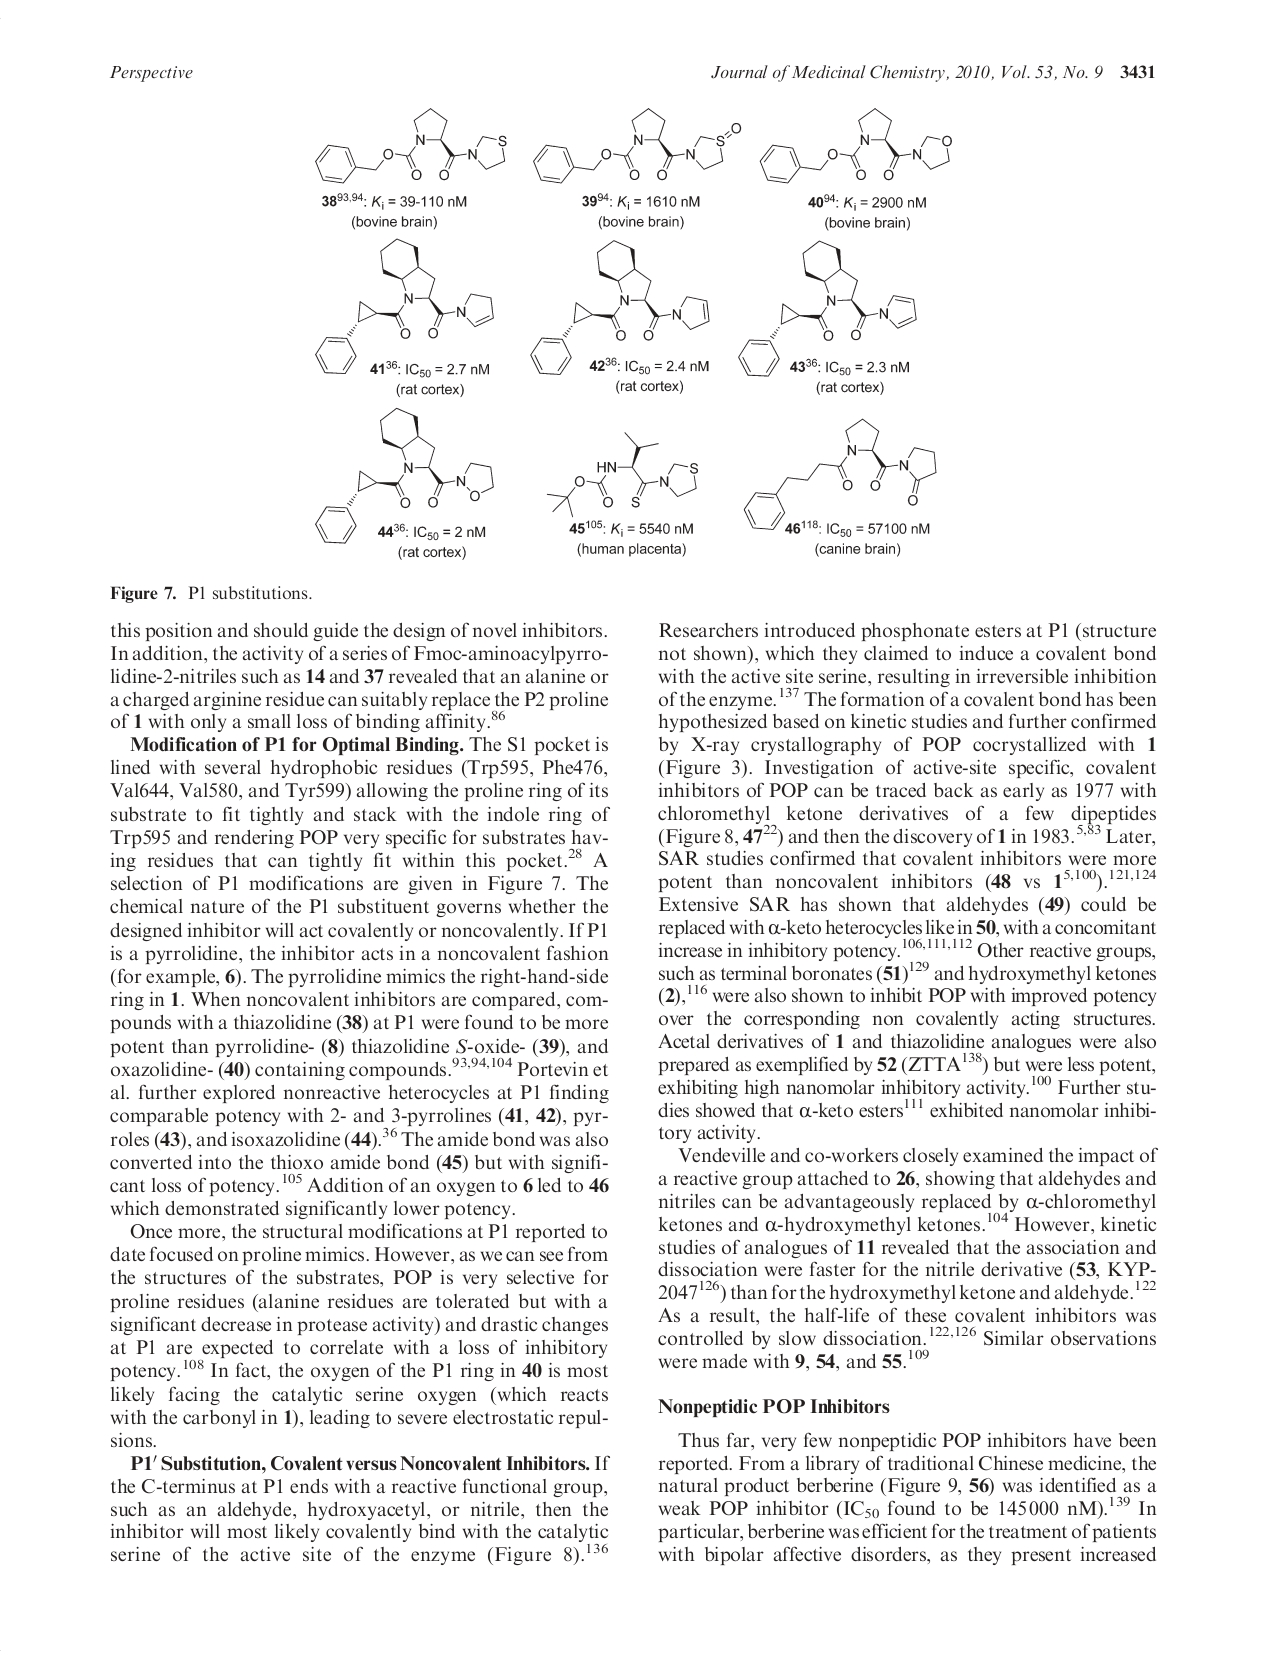exist_molecular: (314, 235, 496, 376), (314, 406, 496, 545), (529, 239, 711, 376), (738, 239, 918, 376), (739, 419, 938, 533), (314, 104, 508, 186), (532, 108, 742, 184), (759, 106, 953, 185), (544, 434, 701, 520)
